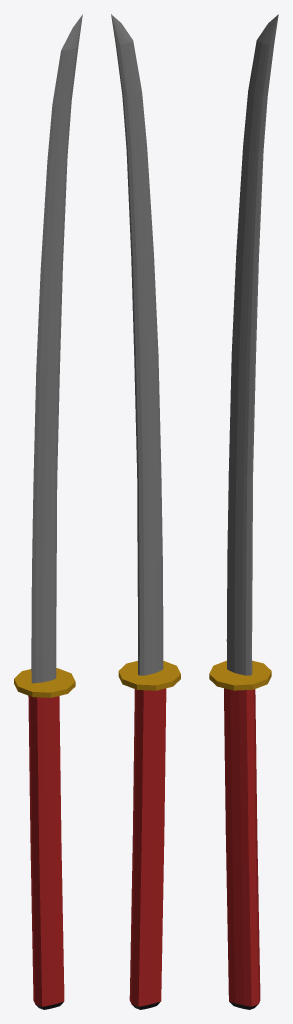
The model's file is Asian_Prop_Weapon_Nodachi_01.FBX.
The picture shows the model from 3 angles, left to right: view 1: azimuth 30°, elevation 25°; view 2: azimuth 210°, elevation 25°; view 3: azimuth 330°, elevation 25°; orthographic projection.
Visible parts, largest first — view 1: Asian_Prop_Weapon_Nodachi_01; view 2: Asian_Prop_Weapon_Nodachi_01; view 3: Asian_Prop_Weapon_Nodachi_01.
Part boxes in pixels (box(x1,y1,x2,y2)): Asian_Prop_Weapon_Nodachi_01: box(14, 14, 82, 1009); Asian_Prop_Weapon_Nodachi_01: box(111, 14, 180, 1009); Asian_Prop_Weapon_Nodachi_01: box(209, 14, 278, 1009).
Size of the model in its own units: 132 by 1925 by 104.
